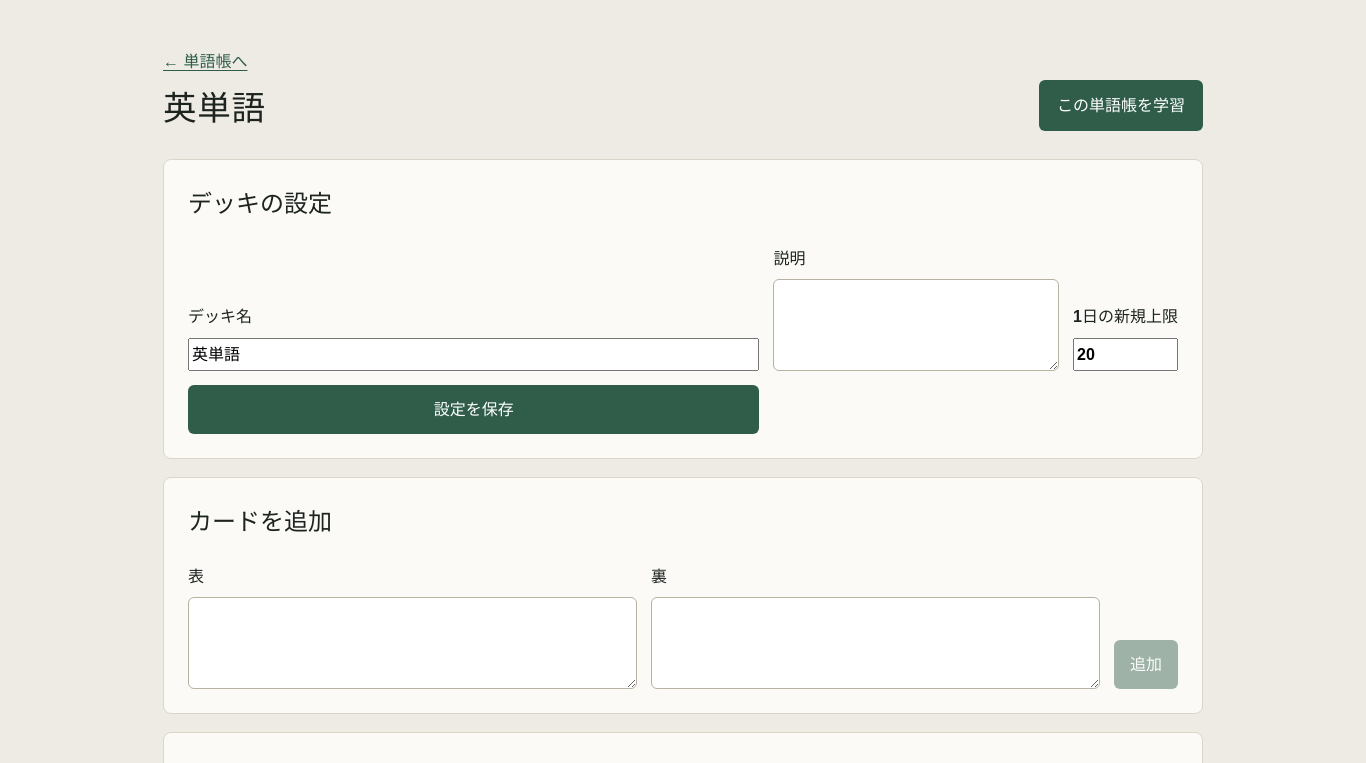
it: デッキの設定 › 名前・説明・新規上限をまとめて保存する
Replace the text in the field labelled "デッキ名" with "英単語 中級": (474, 354) 188,338 -> 759,371
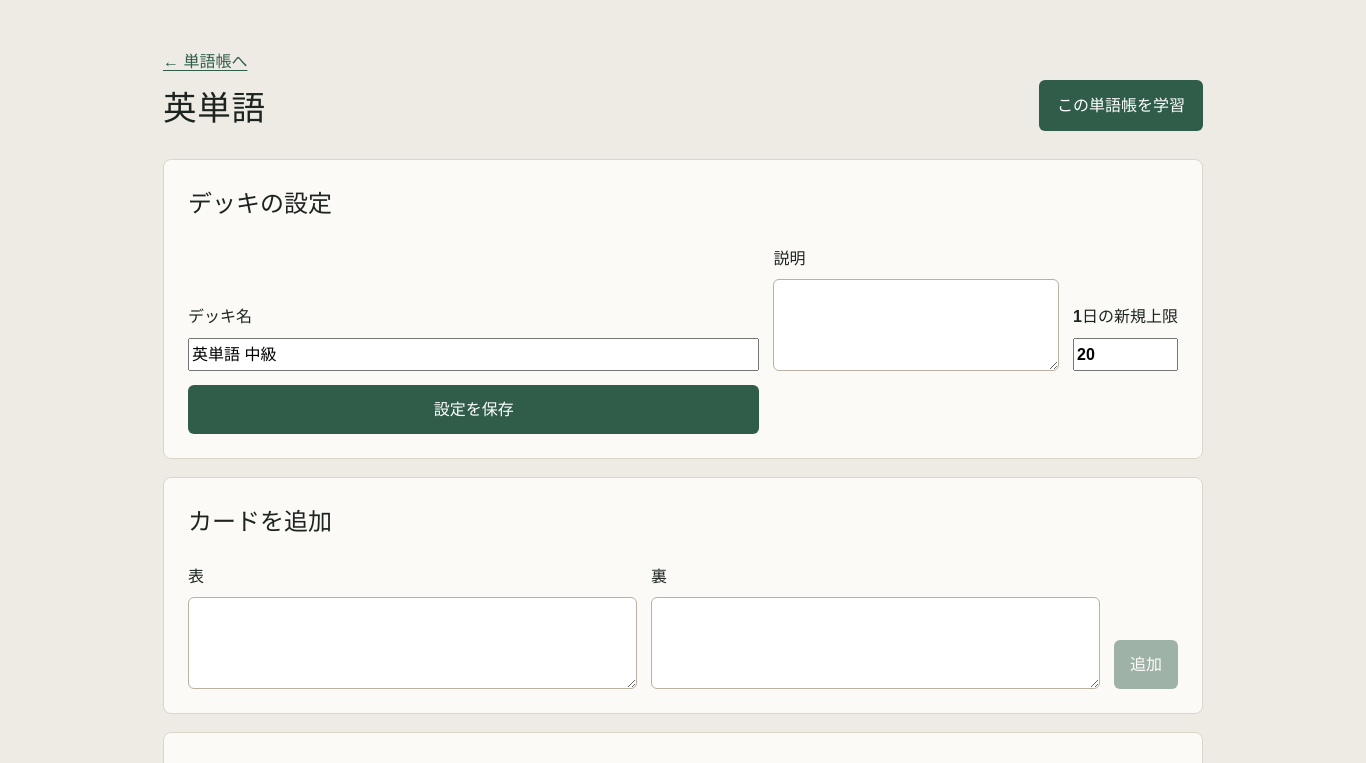
In the text box labelled "説明": (916, 325) 773,279 -> 1059,371, type "毎日すこしずつ。"
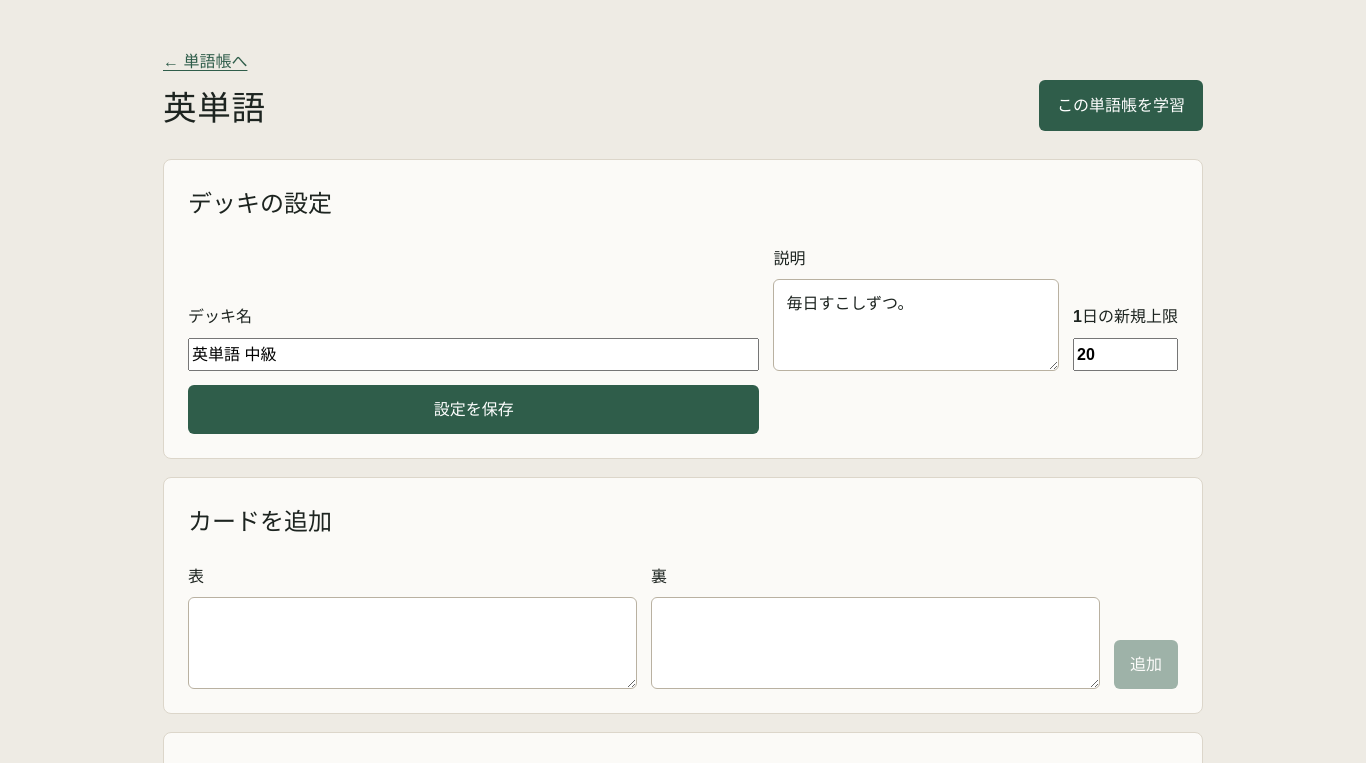
Replace the text in the number field labelled "1日の新規上限" with "5": (1126, 354) 1073,338 -> 1178,371
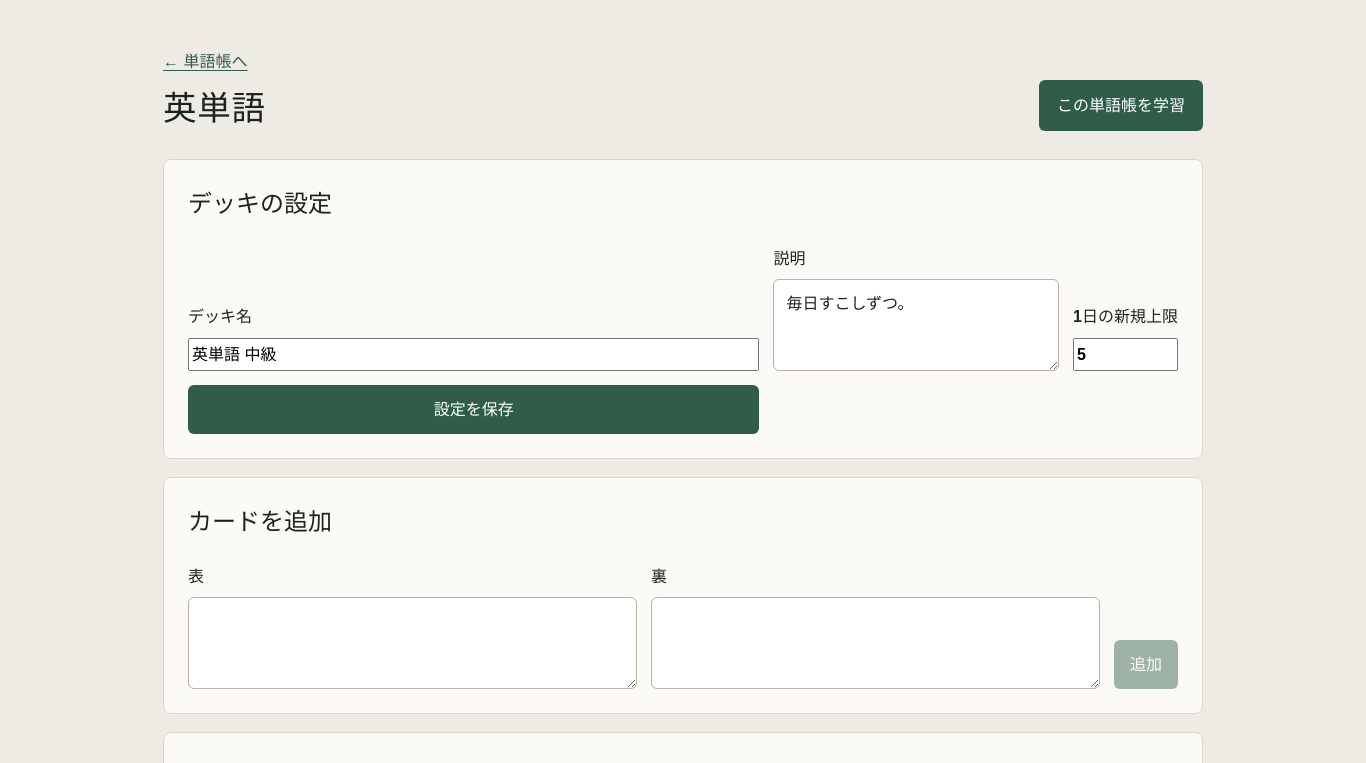
Click the button "設定を保存": (474, 409) 188,385 -> 759,434
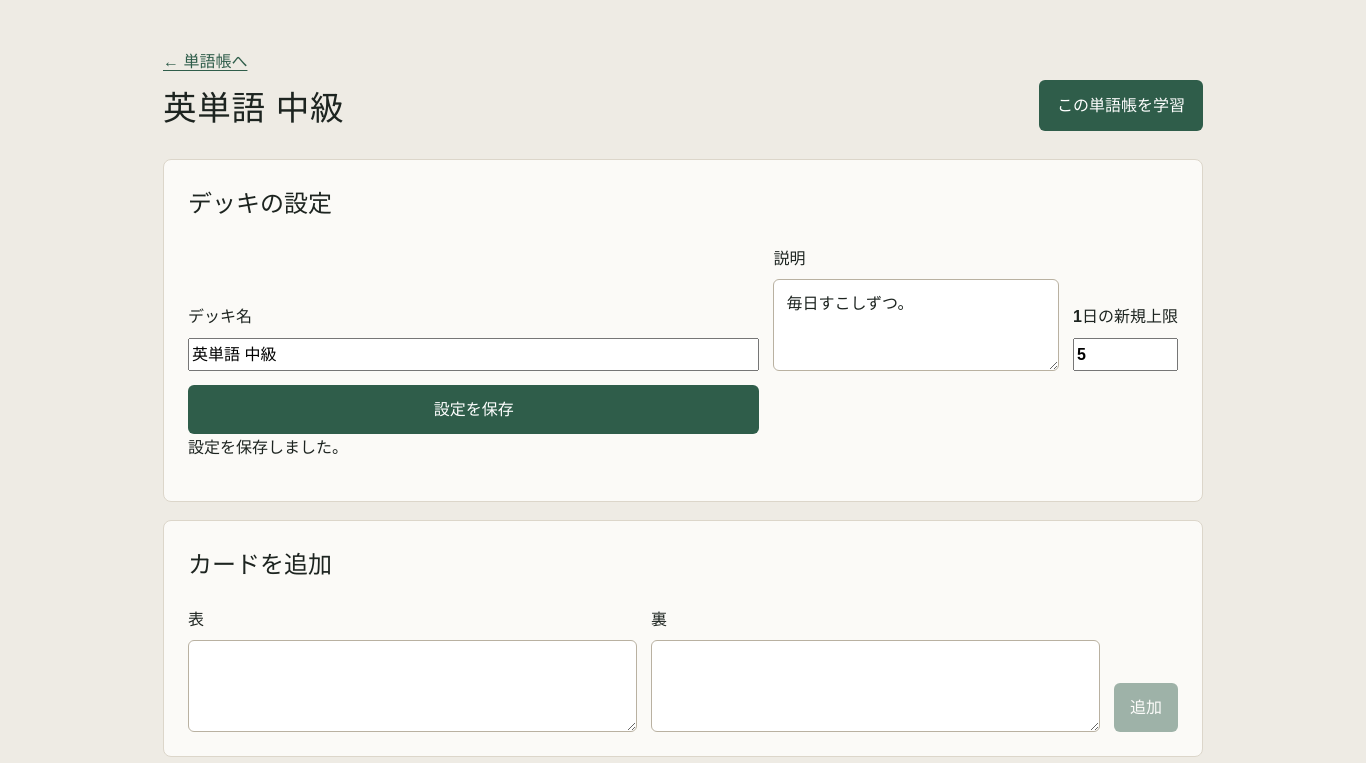
Check: the heading "英単語 中級" is shown, box 163,87 -> 344,131
